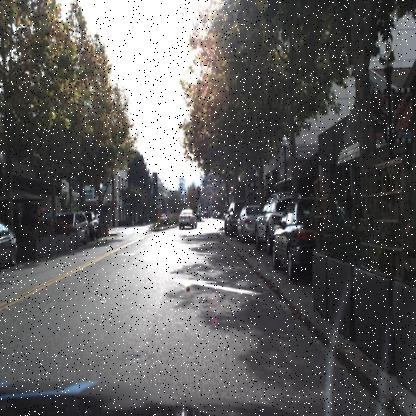car: (276, 196, 340, 282), (254, 192, 301, 260), (57, 212, 87, 245), (1, 221, 19, 272), (221, 201, 245, 239), (236, 203, 260, 240), (183, 208, 205, 235)
trafficLight-Red: (196, 184, 202, 198)
